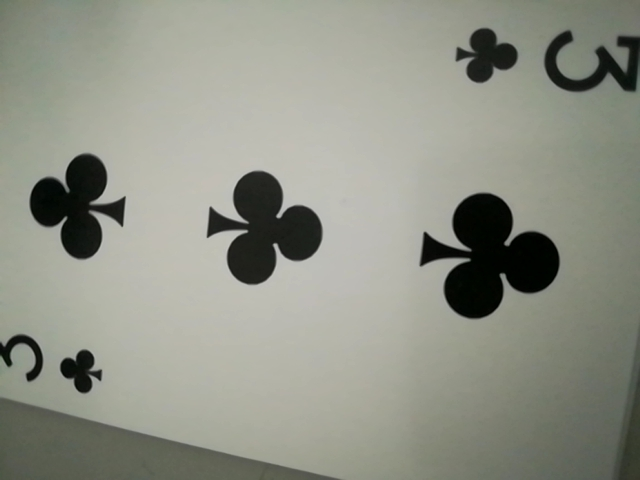mh 3: (450, 15, 640, 109), (0, 328, 111, 402)
